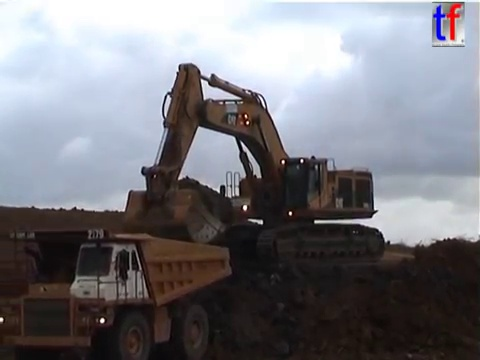excavator: (118, 60, 388, 267)
truck: (1, 225, 234, 360)
